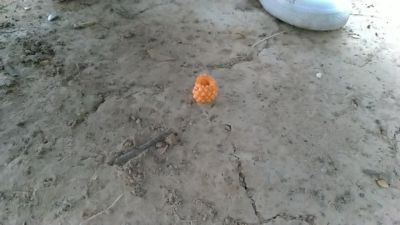eggs: (191, 73, 221, 108)
